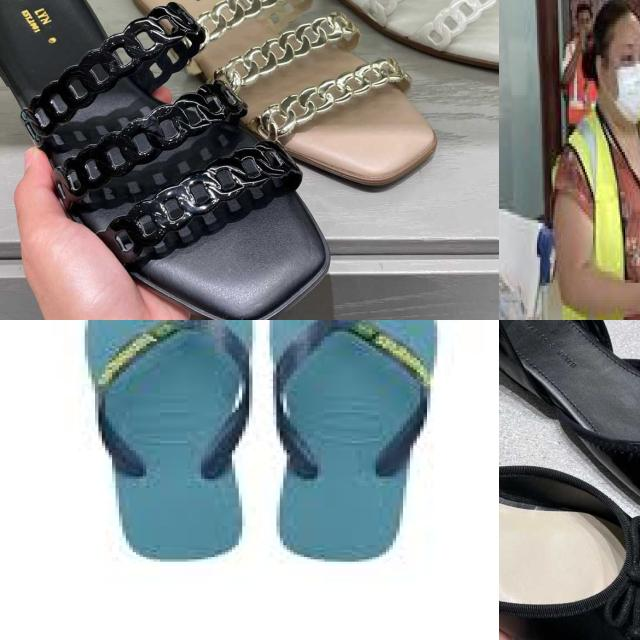Sandals: (19, 320, 499, 613), (0, 0, 359, 320), (116, 0, 485, 198), (499, 320, 640, 640), (499, 320, 640, 576), (211, 0, 499, 92)
face_mask: (604, 32, 640, 123)
head_nohelmet: (601, 0, 640, 35), (577, 0, 593, 29)
person: (553, 4, 640, 320)
vest: (561, 116, 640, 320)
